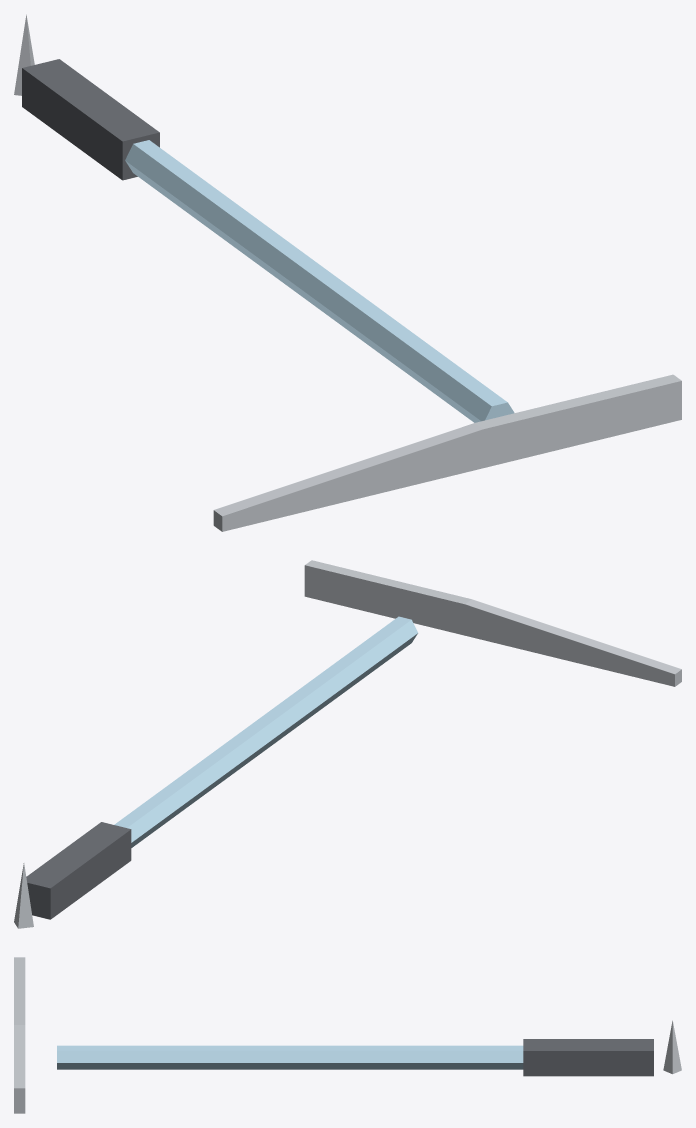
Rendered from ski-resort-and-snow-park-ice-axe-05a4af9a__26018.glb.
3 renders of one model, top to bottom at view 1: azimuth 30°, elevation 25°; view 2: azimuth 150°, elevation 25°; view 3: azimuth 270°, elevation 25°, orthographic. The views are drawn at different scales.
Parts seen in each view (by area): view 1: ice-axe; view 2: ice-axe; view 3: ice-axe.
Part boxes in pixels (<box>): ice-axe: <box>14,14,681,531</box>; ice-axe: <box>14,560,681,928</box>; ice-axe: <box>14,957,681,1113</box>.
Bounding box in the file's own units: 0.37 × 0.06 × 0.716.
